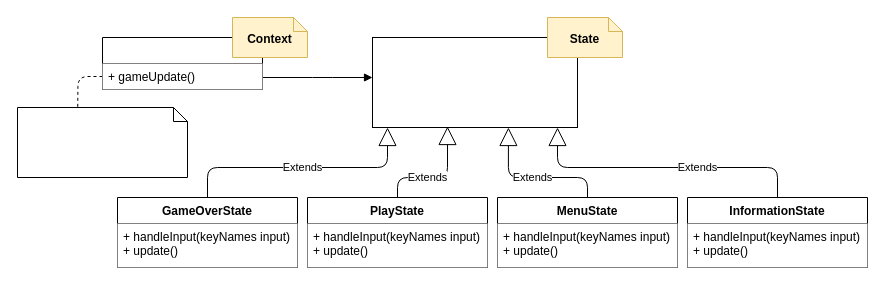
The diagram is 885 pixels wide and 288 high, and some of its shapes have lost their labels. The box of each missing label's shape, as (x1, y1, x2, y2) in pixels:
<<abstract>> GameState + handleInput(keyNames input) + update(): (372, 36, 578, 128)
GameController: (102, 36, 262, 90)
gameState.handleInput(key) gameState.update(): (16, 106, 188, 178)
